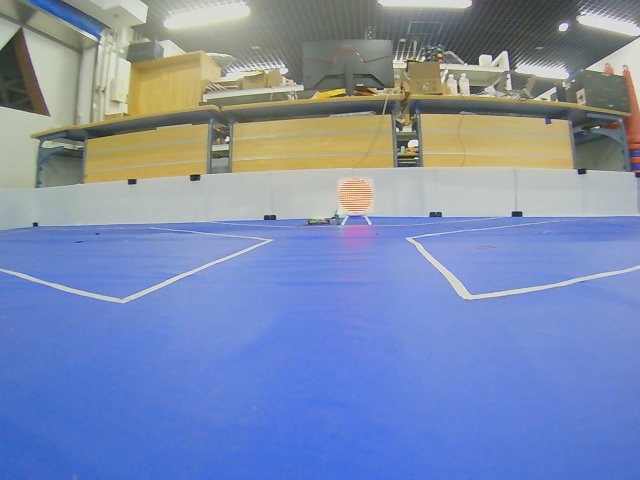red: (338, 178, 373, 215)
